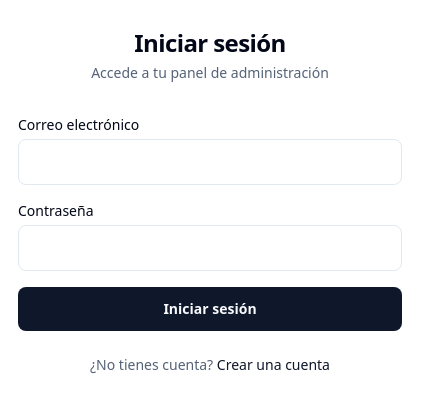
Scenario: LoginPage › shows API error message on failed login
Type "user@tablio.co" into the field labelled "Correo electrónico".
click(210, 162); type("user@tablio.co")  # box [18,139,402,185]
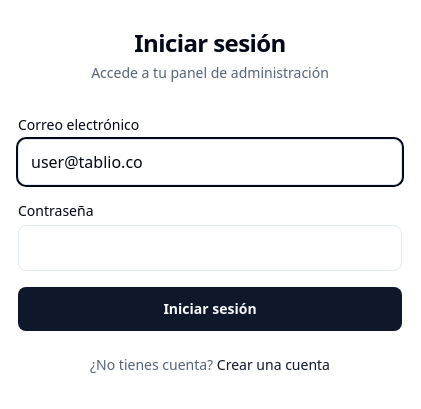
Type "wrongpass" into the password field labelled "Contraseña".
click(210, 248); type("wrongpass")  # box [18,225,402,271]
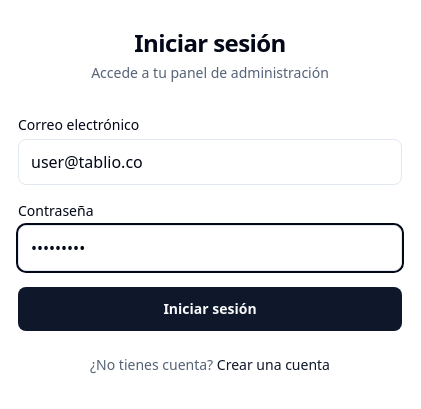
Click the button "Iniciar sesión".
click(210, 309)  # box [18,287,402,331]
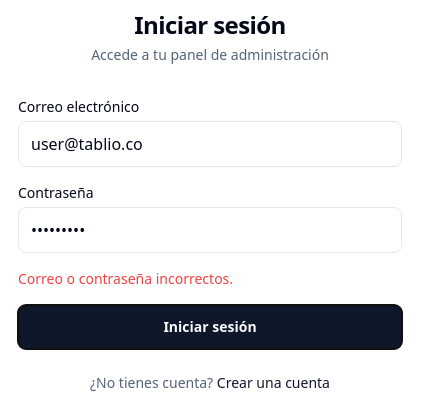
Now the message "Correo o contraseña incorrectos." is shown, box [18,269,233,288]
